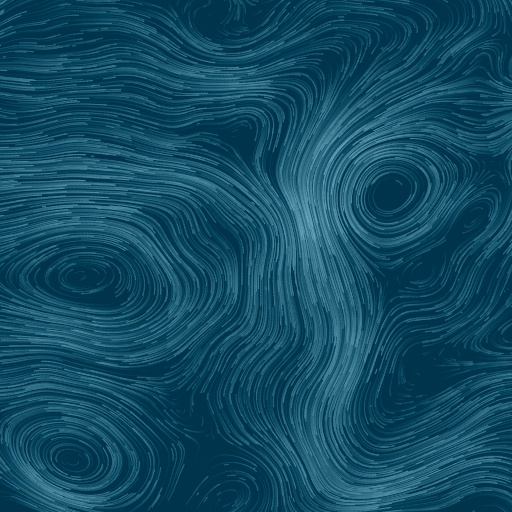eddy: (3, 402, 141, 509), (15, 222, 150, 316), (342, 144, 445, 244), (451, 193, 498, 241), (211, 483, 245, 512)
